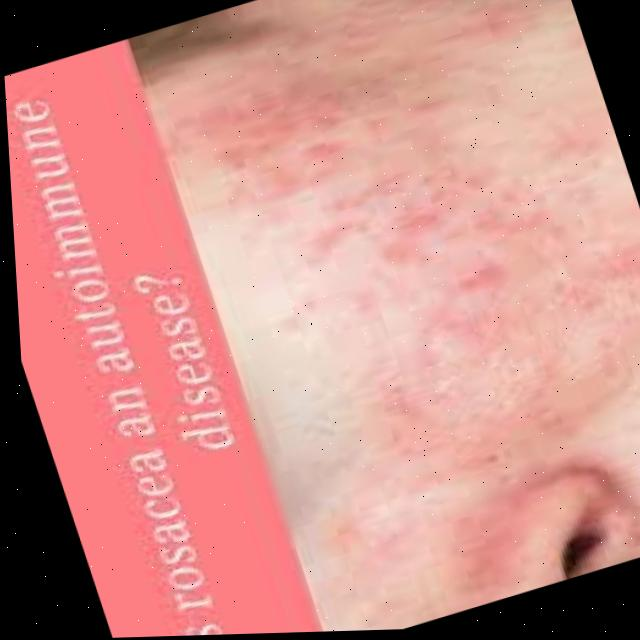Rosacea: (189, 0, 640, 506)
